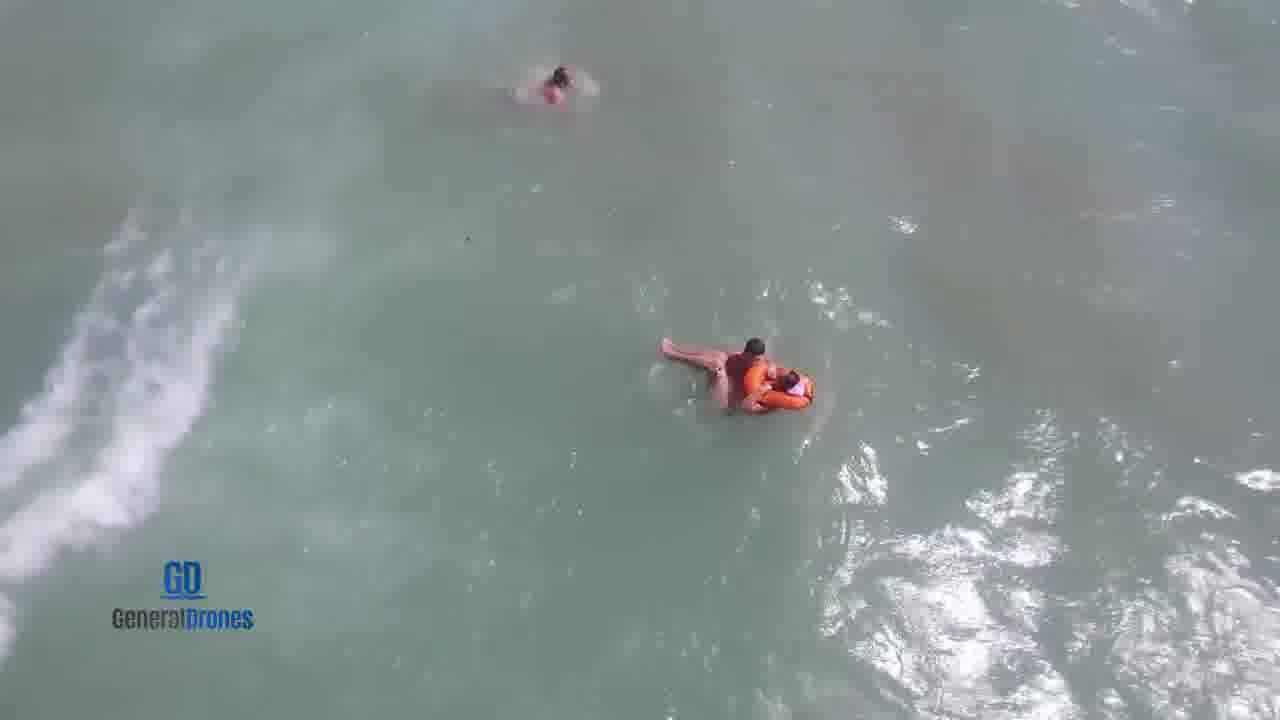human: (641, 327, 818, 409), (522, 59, 598, 112), (720, 329, 792, 370)
